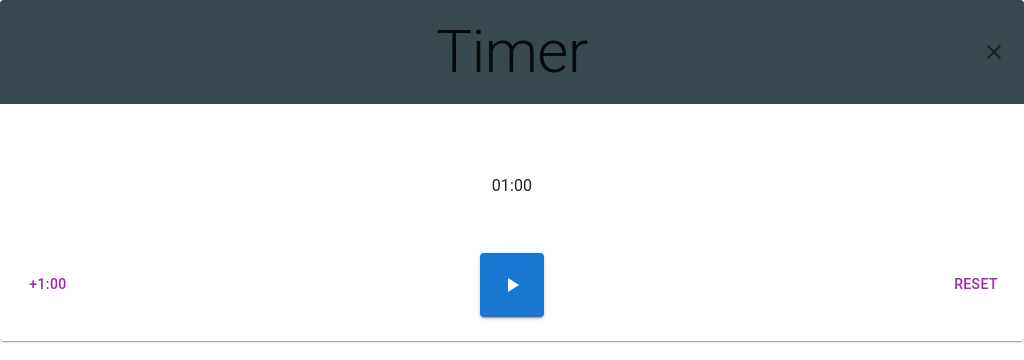
Test: Timer › play/pause button › plays, pauses, and resumes the timer
Expected: the text "01:00" is shown, [492,174,532,198]
Step 1. Click the button named "PLAY" → (512, 284), box [480,252,544,316]
Wait 16000 ms
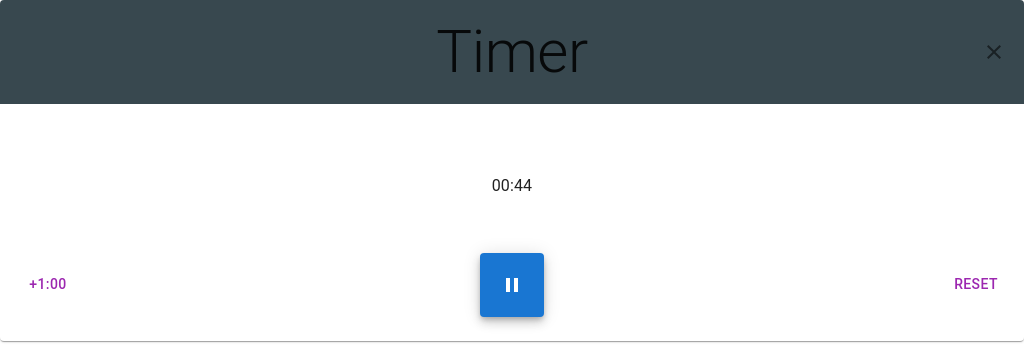
Now the text "00:44" is shown, box [492,174,532,198]
Step 2. Click the button named "PAUSE" → (512, 284), box [480,252,544,316]
Wait 60000 ms
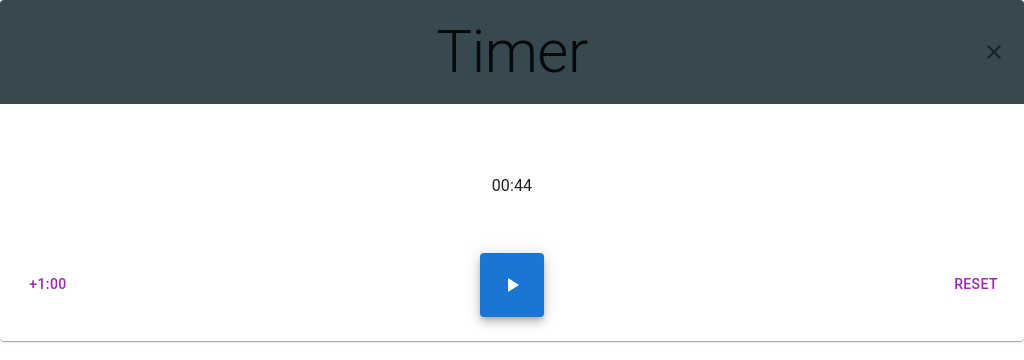
Now the text "00:44" is shown, box [492,174,532,198]
Step 3. Click the button named "PLAY" → (512, 284), box [480,252,544,316]
Wait 14000 ms
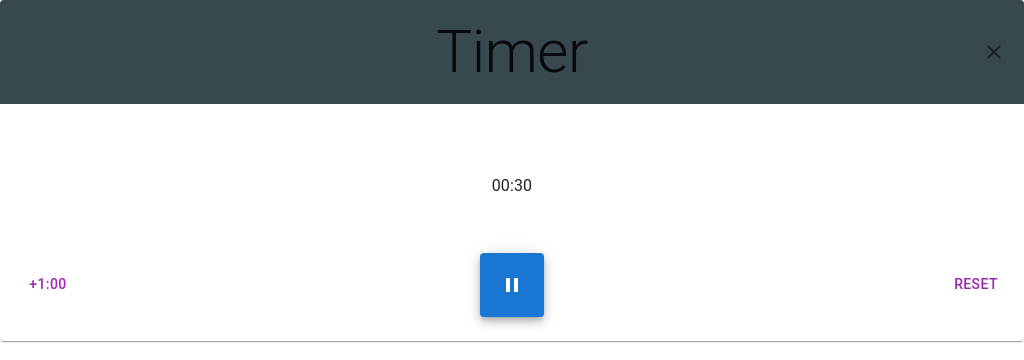
Now the text "00:30" is shown, box [492,174,532,198]
